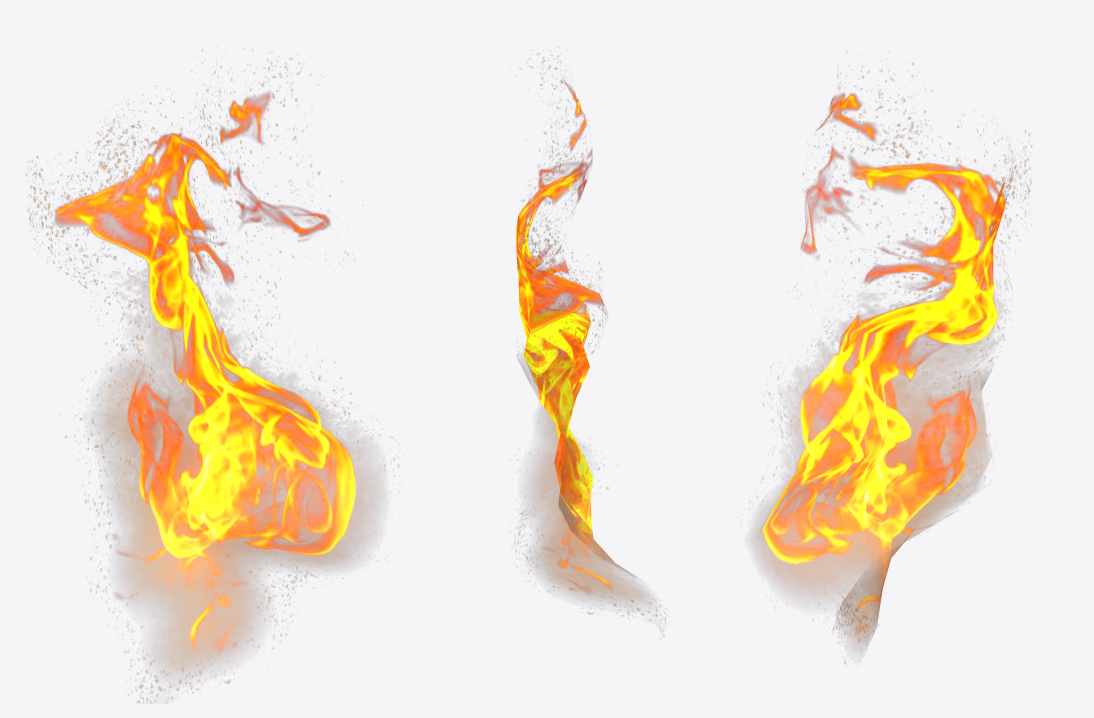
The model's file is flame_mesh_1_still.glb.
The picture shows the model from 3 angles, left to right: view 1: azimuth 30°, elevation 25°; view 2: azimuth 150°, elevation 25°; view 3: azimuth 270°, elevation 25°; orthographic projection. The views are drawn at different scales.
Parts seen in each view (by area): view 1: Object_2.001; view 2: Object_2.001; view 3: Object_2.001.
Part boxes in pixels (left/top/right/bottom): Object_2.001: left=26, top=48, right=398, bottom=702; Object_2.001: left=514, top=57, right=665, bottom=635; Object_2.001: left=752, top=63, right=1031, bottom=663.
Size of the model in its own units: 0.1955 by 0.4192 by 0.2235.
Materials: 1 (1 with a texture image).
